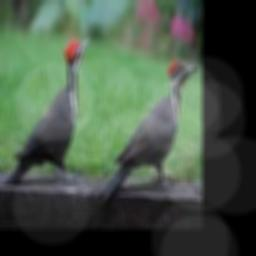Woodpecker: (100, 57, 199, 202), (4, 37, 91, 184)
